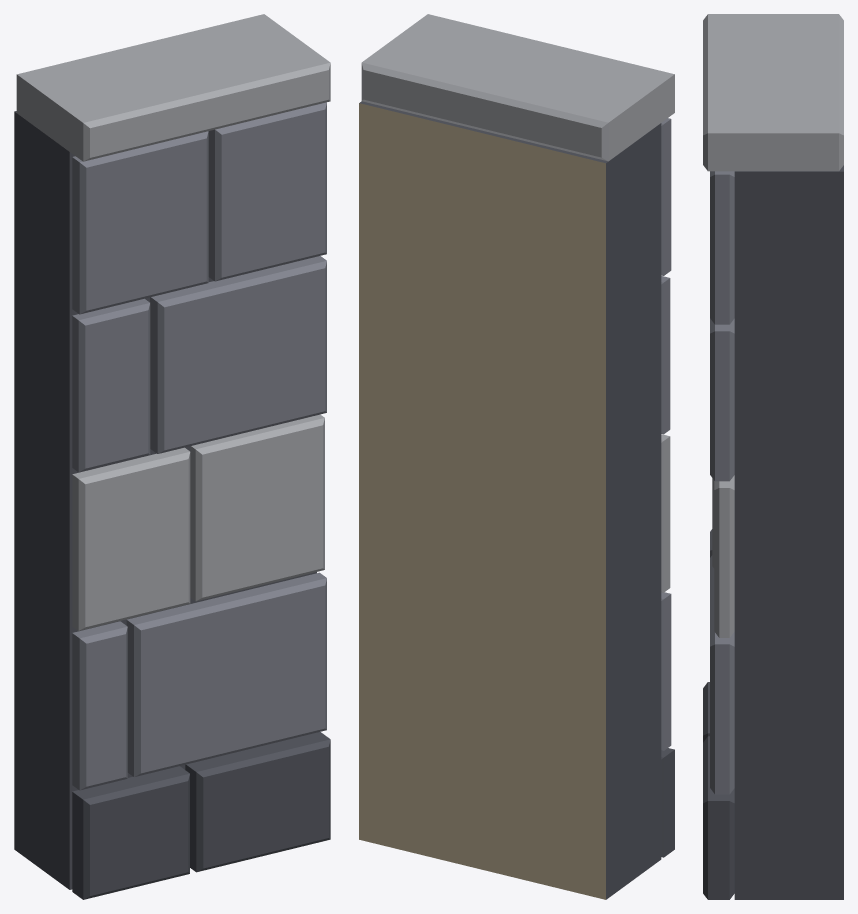
File: WallStraight_09.glb
3 renders of one model, left to right at view 1: azimuth 30°, elevation 25°; view 2: azimuth 150°, elevation 25°; view 3: azimuth 270°, elevation 25°, orthographic.
Parts seen in each view (by area): view 1: WallStraight_09; view 2: WallStraight_09; view 3: WallStraight_09.
Boxes of the visible parts, bbox=[...] form: WallStraight_09: bbox=[14, 14, 330, 899]; WallStraight_09: bbox=[359, 14, 674, 899]; WallStraight_09: bbox=[703, 14, 843, 899].
Bounding box in the file's own units: 4 × 12 × 2.
